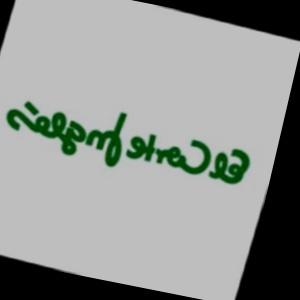corte_ingles: (240, 82, 288, 193)
